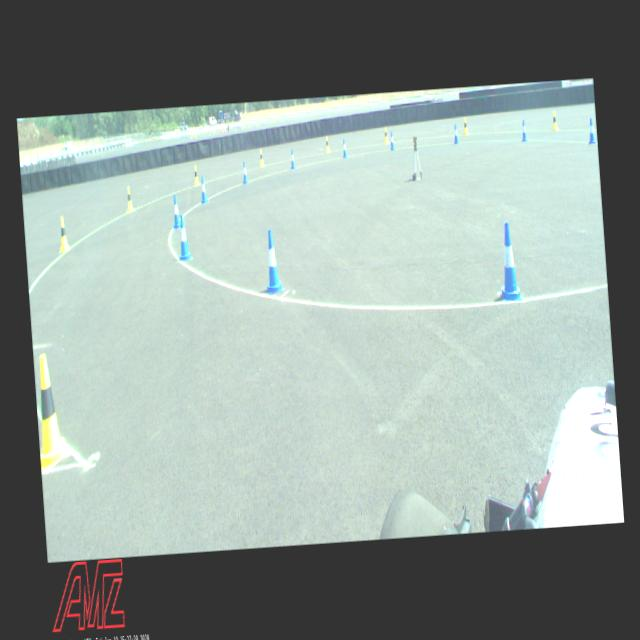blue_cone: (494, 220, 523, 302), (262, 228, 283, 293), (176, 213, 192, 260), (170, 194, 180, 228), (199, 175, 208, 202), (587, 118, 596, 144), (241, 160, 249, 183), (520, 120, 528, 142), (289, 148, 296, 168), (452, 123, 459, 143), (388, 130, 394, 150), (341, 138, 347, 158)
yellow_cone: (32, 352, 66, 469), (56, 215, 70, 251), (125, 186, 133, 210), (192, 164, 200, 186), (551, 110, 558, 130), (462, 117, 468, 135), (258, 148, 264, 166), (324, 135, 330, 152), (383, 126, 388, 142)
